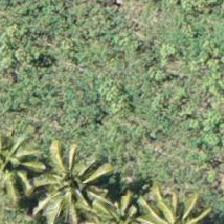coconut_tree: (19, 144, 109, 223), (0, 119, 45, 209)
